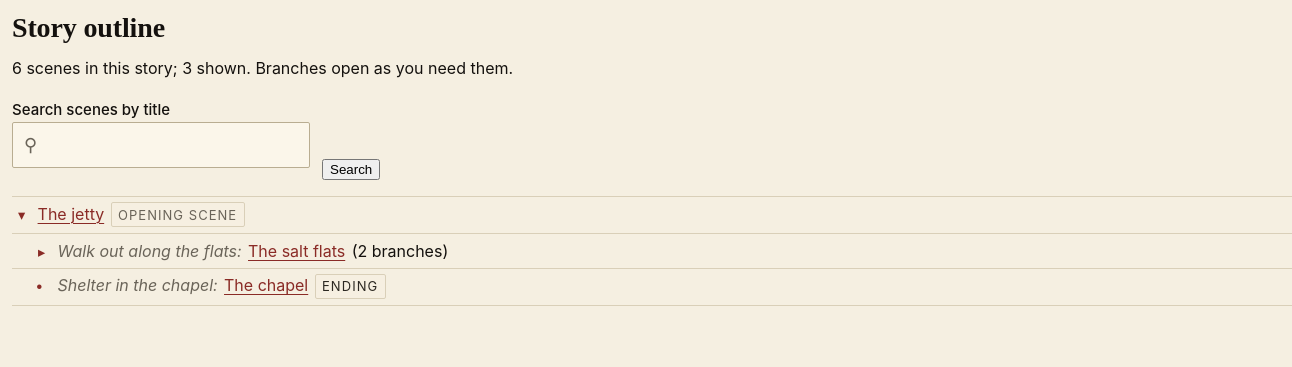
search › says clearly when nothing matches
Expected: the link "The jetty" is shown, [38,203,104,225]
Type "submarine" into the search field with test id "outline-search-input".
click(161, 145); type("submarine")  # box [12,122,310,168]
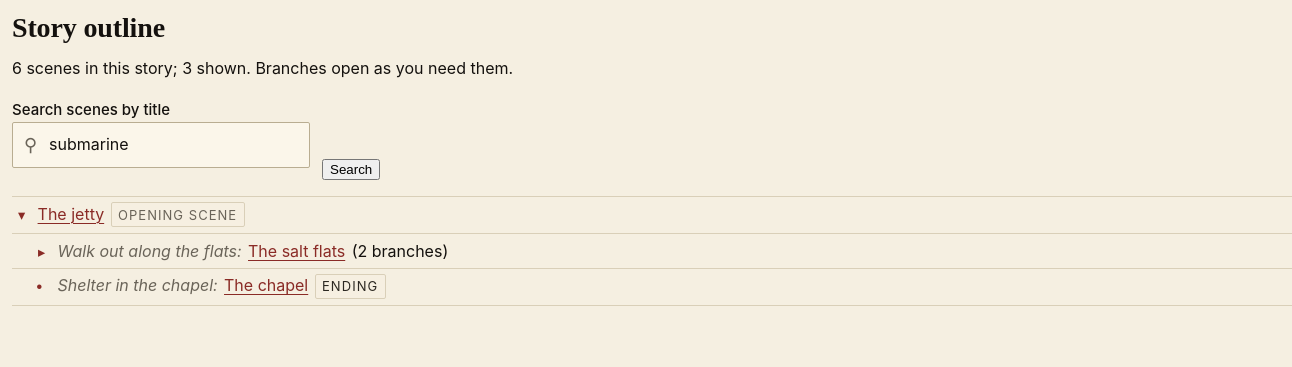
Click the button with test id "outline-search".
click(351, 169)  # box [322,159,380,180]
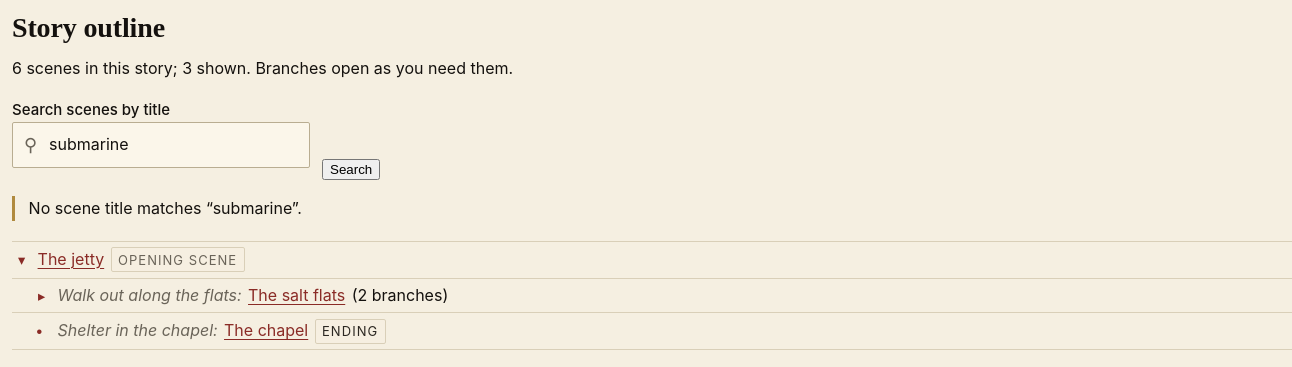
Expected: the text "No scene title matches “submarine”." is shown, [29,198,302,218]
